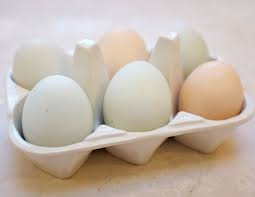eggs: (29, 70, 89, 153), (105, 68, 165, 129), (13, 30, 79, 81), (188, 57, 241, 119)
